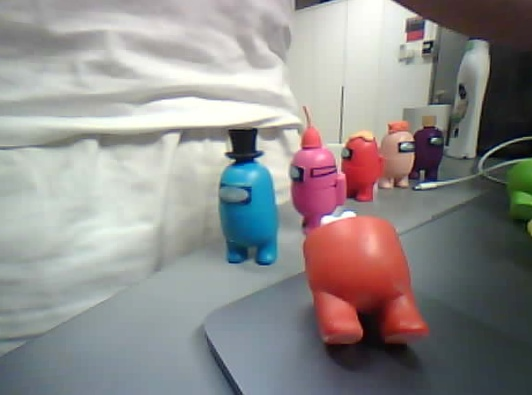alive: (216, 155, 281, 269), (288, 142, 348, 235), (340, 131, 385, 201), (381, 127, 416, 189), (412, 125, 444, 182)
